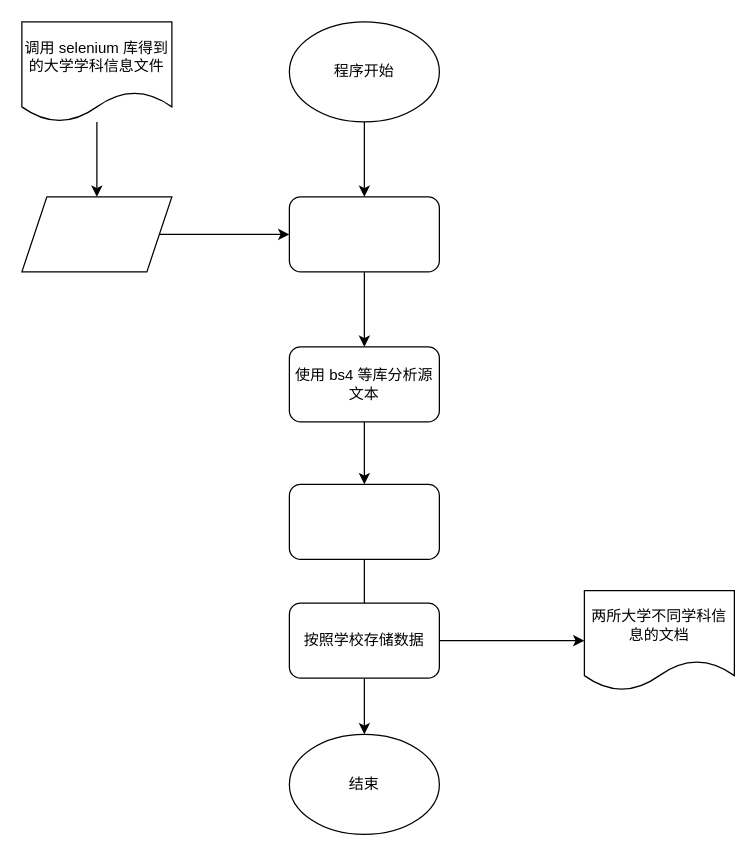
This 756x856 diagram has some shape labels left out. Here are the shapes that lost their labels. From the top down, the box of each, then its label:
(21, 196, 172, 272): 页面源代码
(288, 196, 439, 272): 读取文件内容
(288, 483, 439, 559): 遍历每一个学校的学科排名和评分
